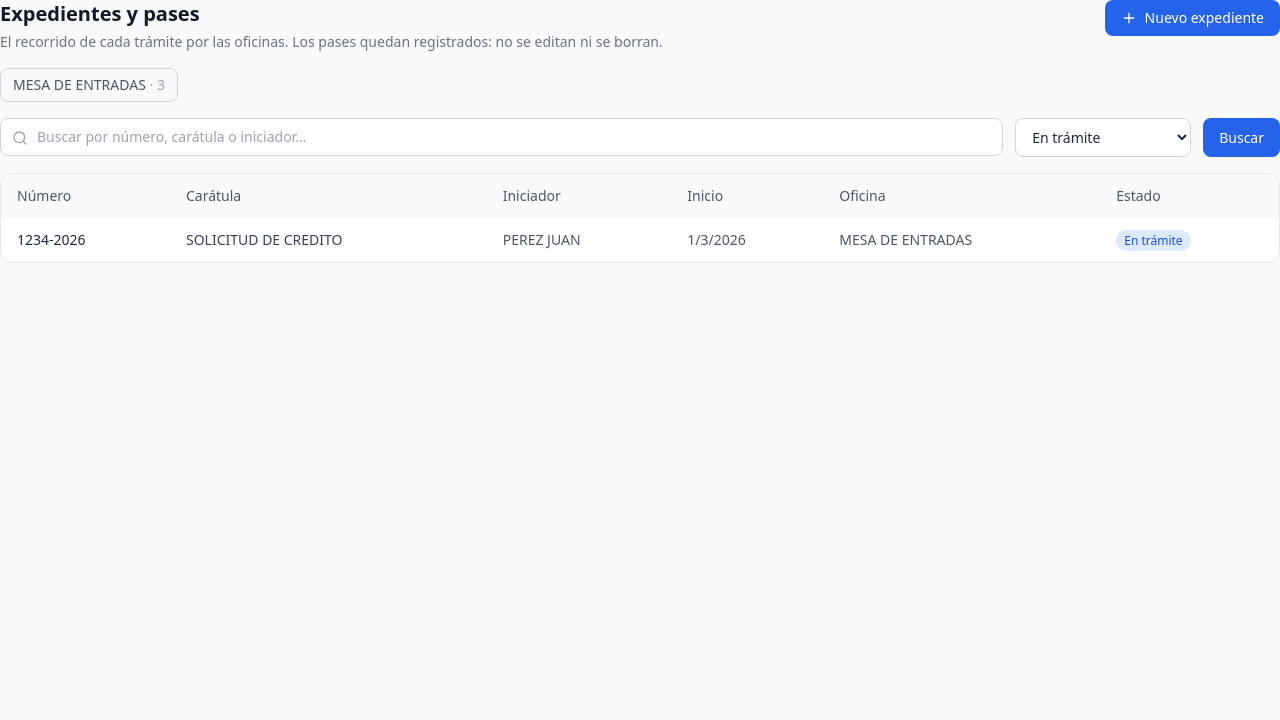
Test: expedientes y pases › el detalle muestra la historia de pases
The width and height of the screenshot is (1280, 720).
Click the text "1234-2026": click(86, 240) [1,218,170,262]
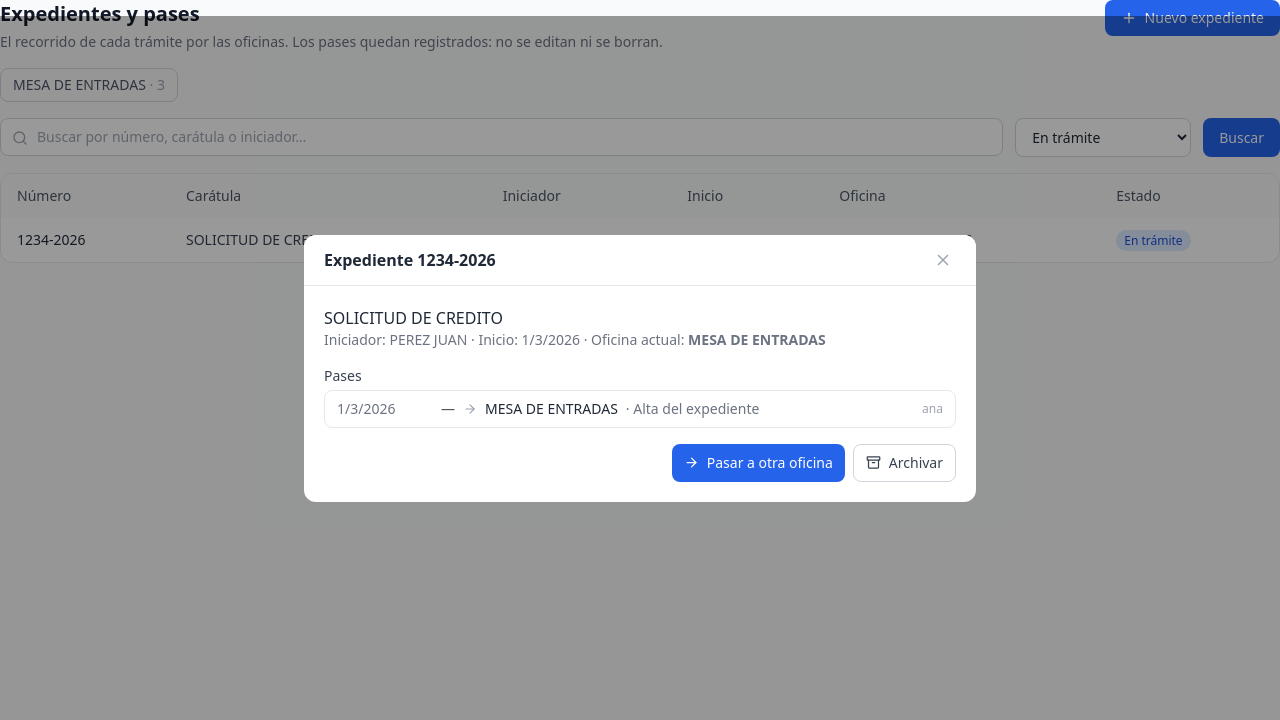
Check: the text "Alta del expediente" is shown, box [633,398,759,418]
